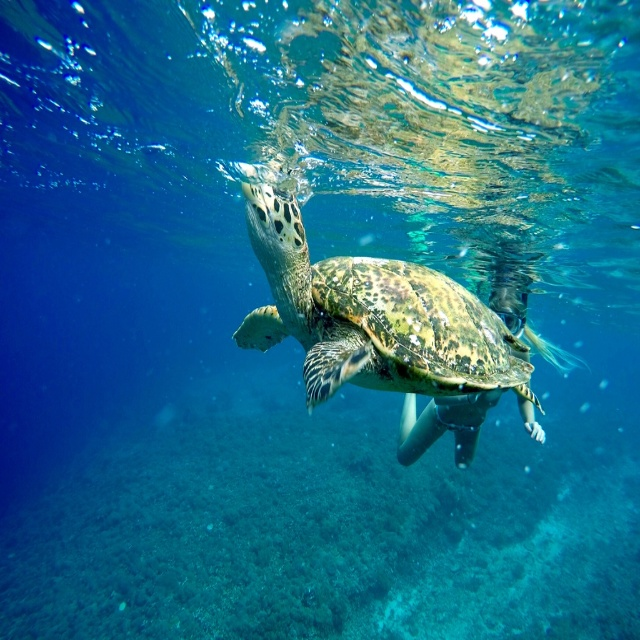Sea turtle: (235, 186, 545, 413)
